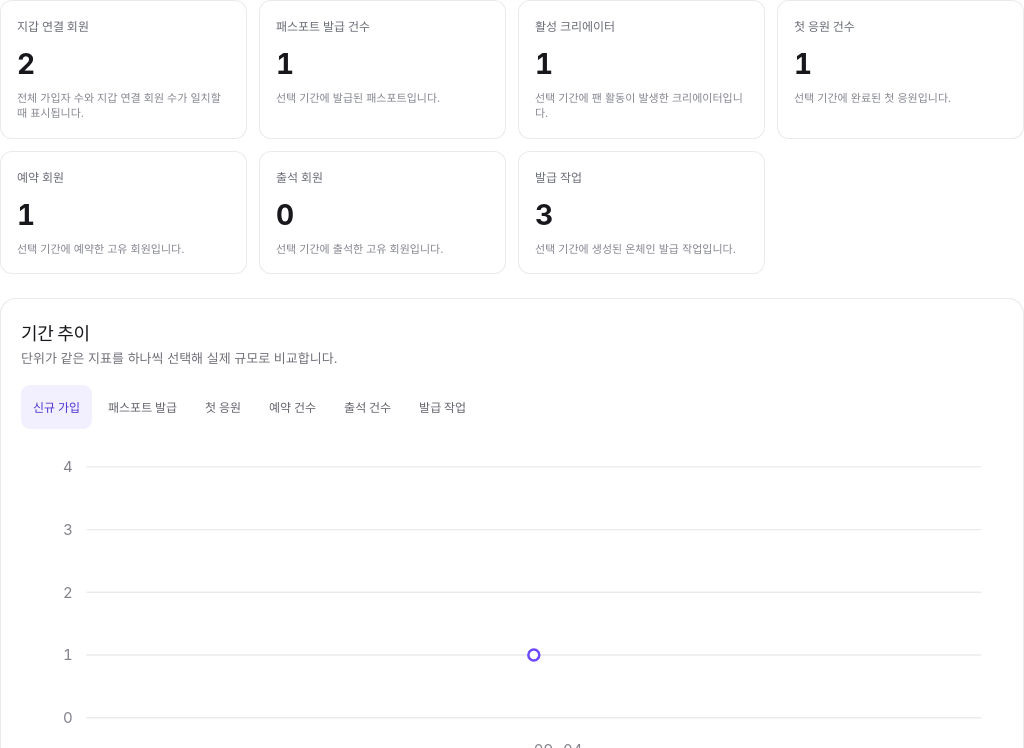
Test: PlatformDashboardContent › switches the chart metric and filters performance rows
The image size is (1024, 748).
Click the button "예약 건수".
click(293, 407)  # box [257,385,328,429]
(page scrolled)
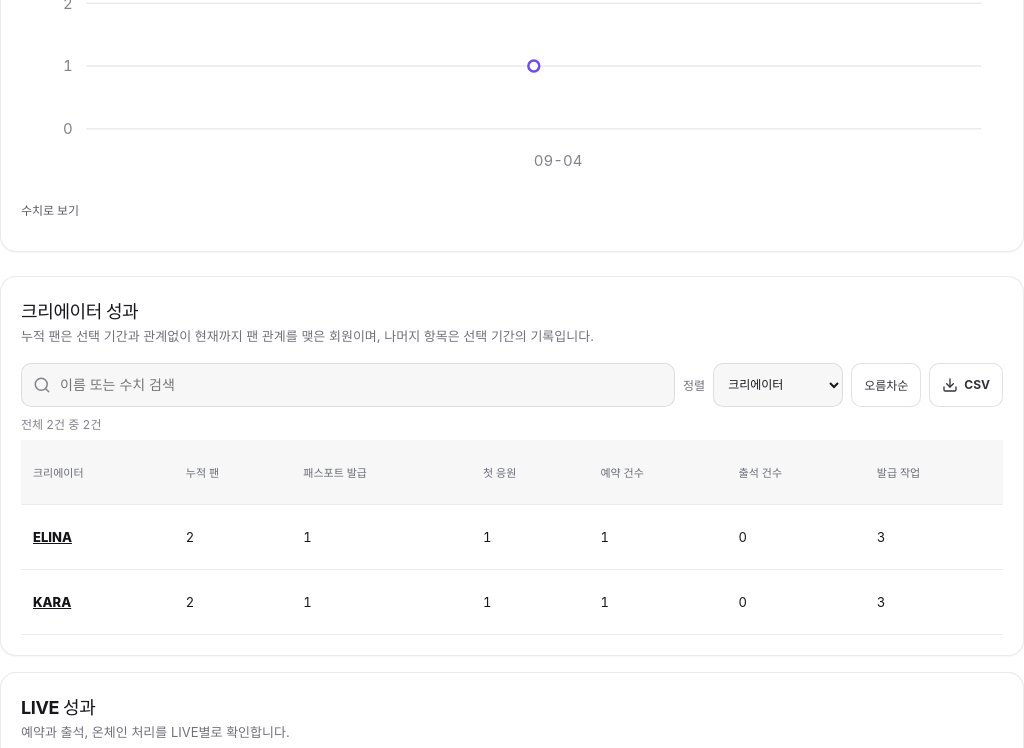
Type "ELINA" into the search field with placeholder "이름 또는 수치 검색" below "크리에이터 성과".
click(348, 384); type("ELINA")  # box [21,362,675,406]
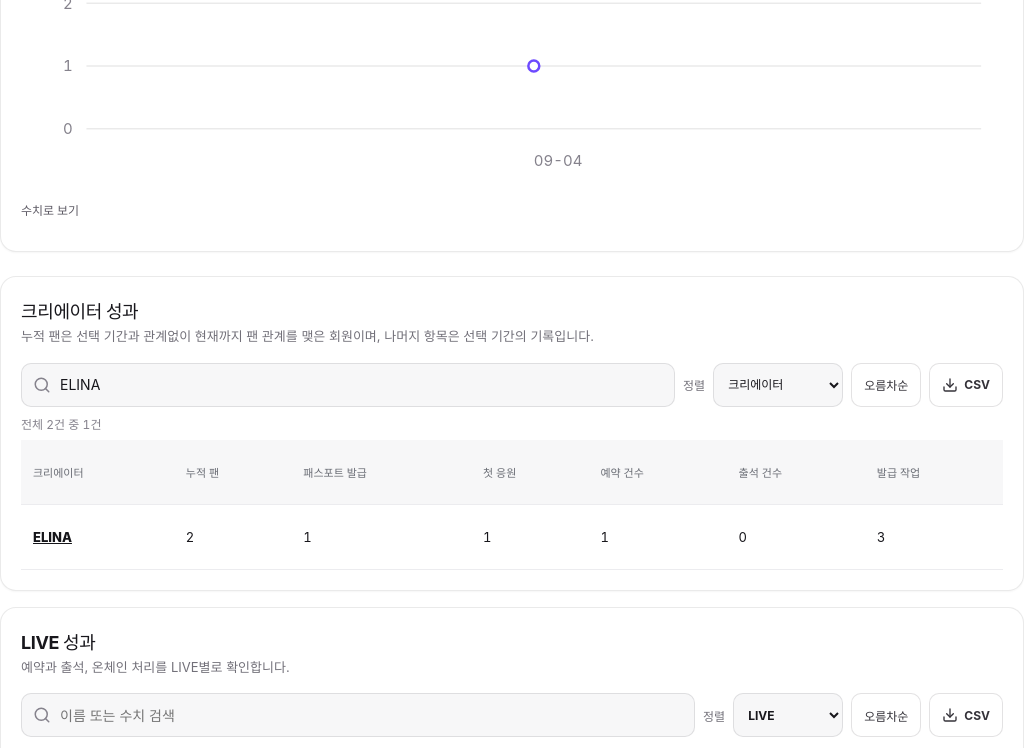
Check: the link "ELINA" is shown, box [33,528,72,544]
Check: the message "전체 2건 중 1건" is shown, box [21,416,101,432]
